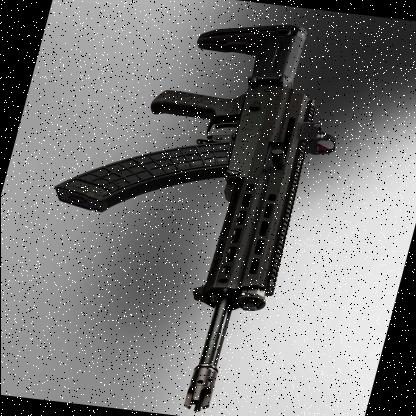rifle: (9, 0, 354, 416)
